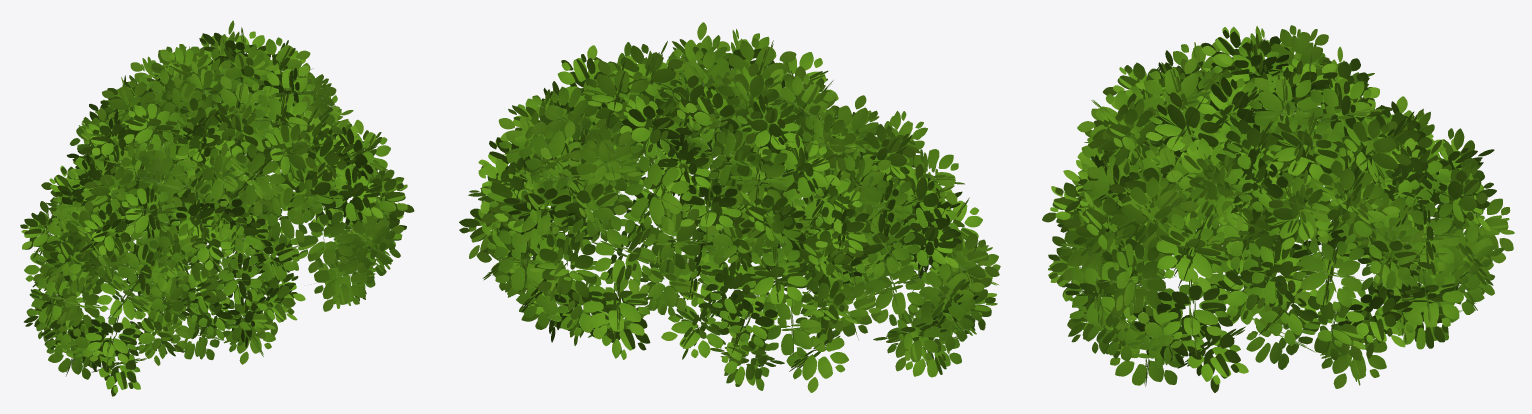
Rendered from AR_bush_001.FBX.
The picture shows the model from 3 angles, left to right: view 1: azimuth 30°, elevation 25°; view 2: azimuth 150°, elevation 25°; view 3: azimuth 270°, elevation 25°; orthographic projection. The views are drawn at different scales.
Parts seen in each view (by area): view 1: Bush_001; view 2: Bush_001; view 3: Bush_001.
Boxes of the visible parts, <box> form: Bush_001: <box>20,20,414,396</box>; Bush_001: <box>459,22,1000,392</box>; Bush_001: <box>1042,25,1514,392</box>.
Size of the model in its own units: 145 by 98.05 by 128.
